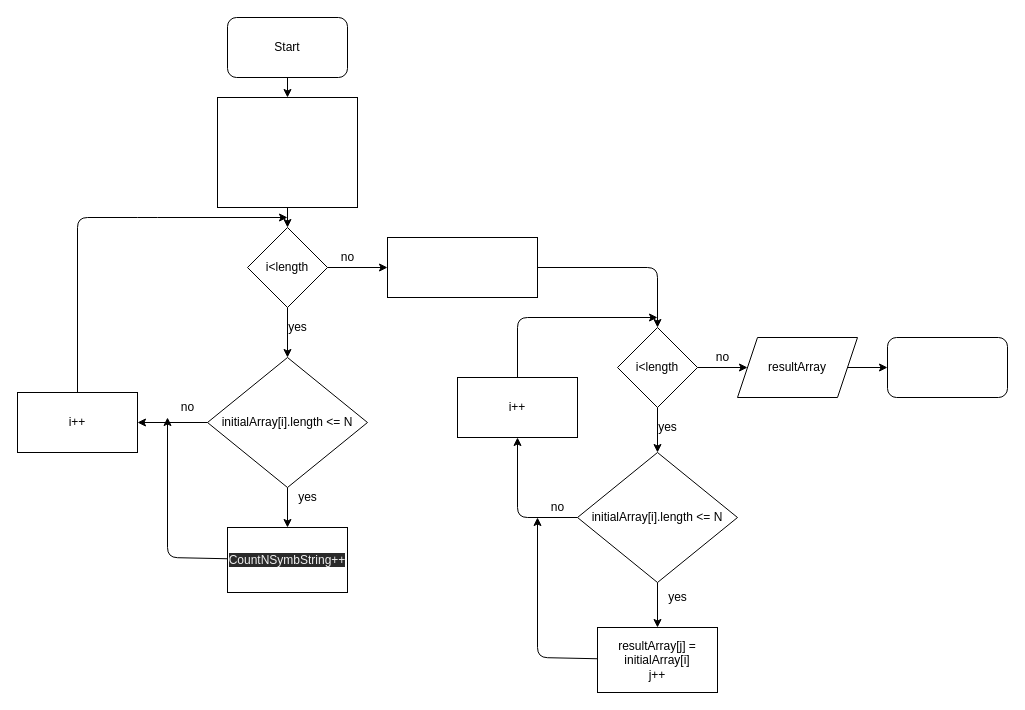
The diagram is 1025 pixels wide and 710 high, and some of its shapes have lost their labels. The shapes that lost their labels are listed below. From the top down, each one's centre as x and y in pixels, then its label:
pixel 287 152: initialArray[] i=0; N = 3; length = initialArray.length countNSymbString = 0
pixel 462 267: resultArray = new array[countNSymbString] i=0 j=0
pixel 947 367: End
